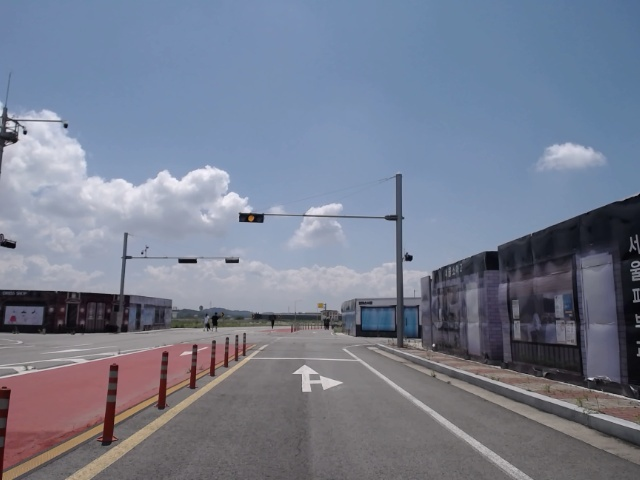orange_3: (239, 214, 265, 223)
